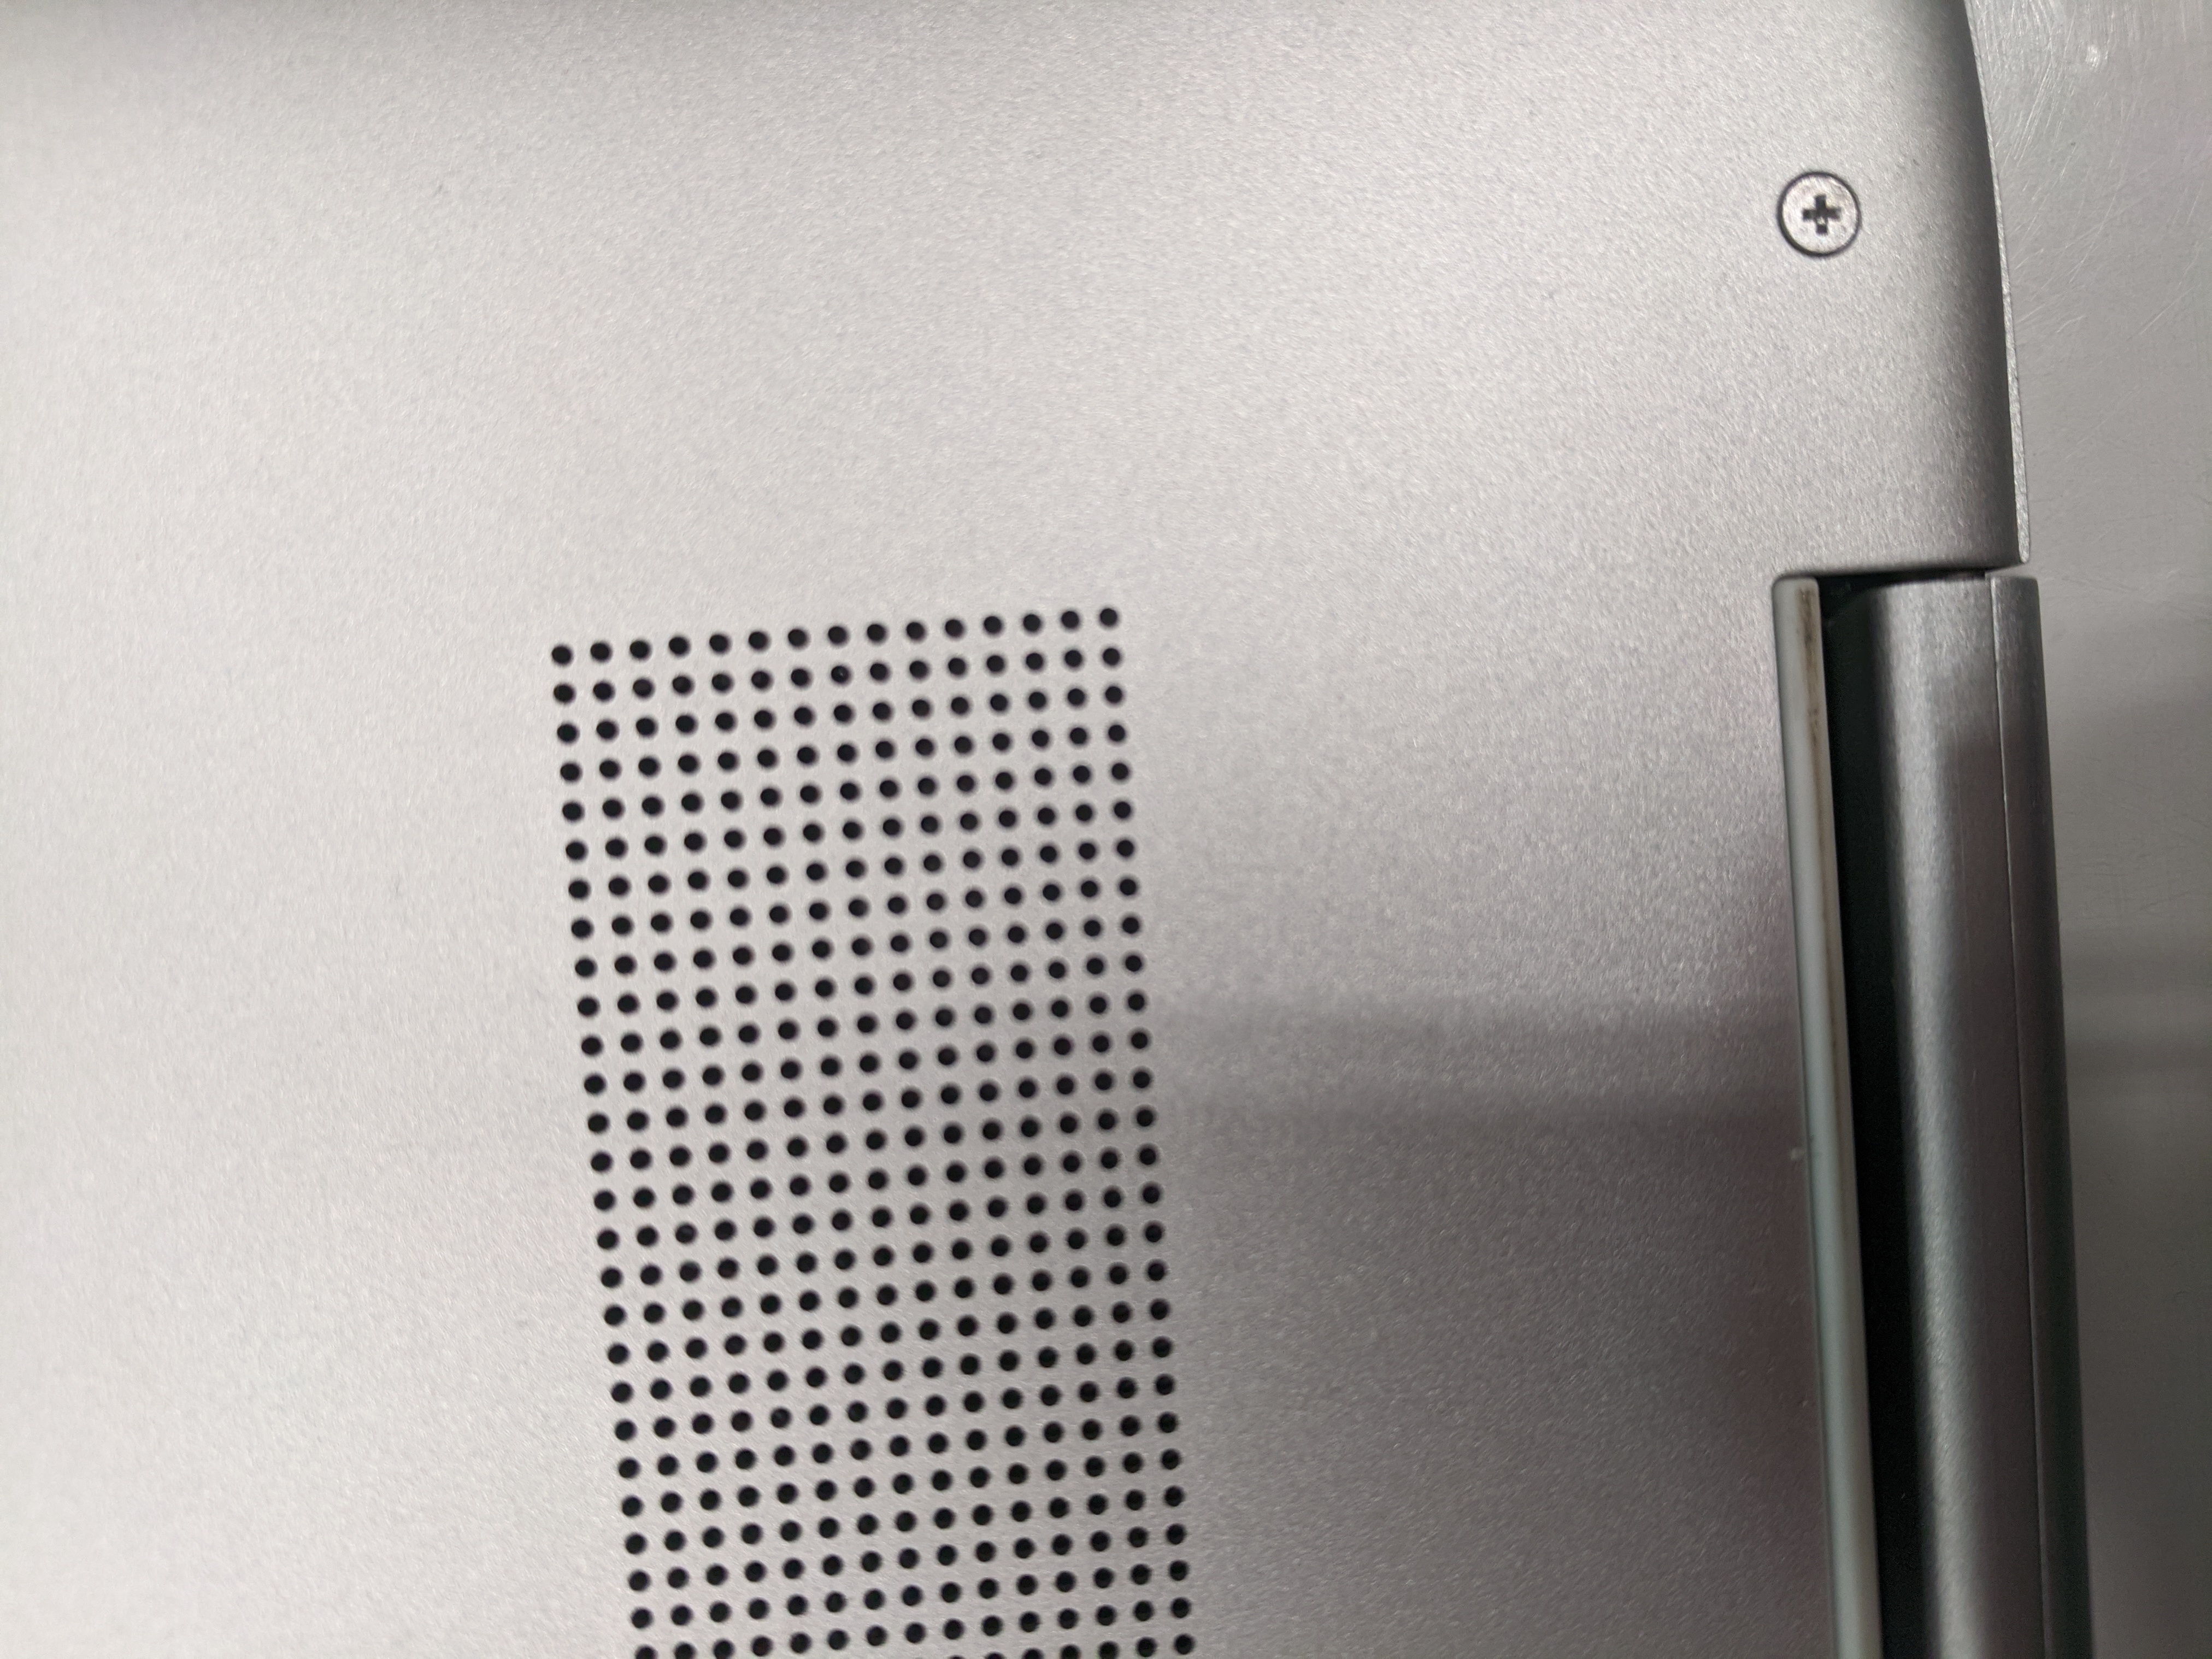cross_recessed_screw: (1773, 159, 1871, 258)
